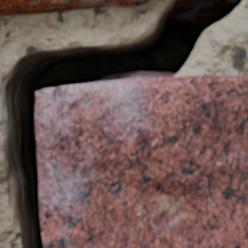brick: (36, 76, 247, 247), (0, 0, 150, 16)
crack: (0, 0, 247, 247)
